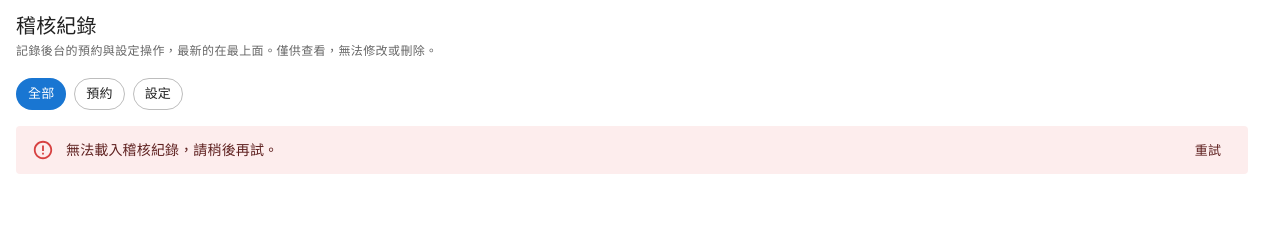
Test case: AuditLogView › 錯誤 › 首次載入失敗：顯示錯誤與重試、不顯示表格；重試成功後顯示資料
Expected: the text "無法載入稽核紀錄，請稍後再試。" is shown, [66, 142, 278, 158]
Click the button "重試": (1208, 151) [1176, 136, 1240, 167]
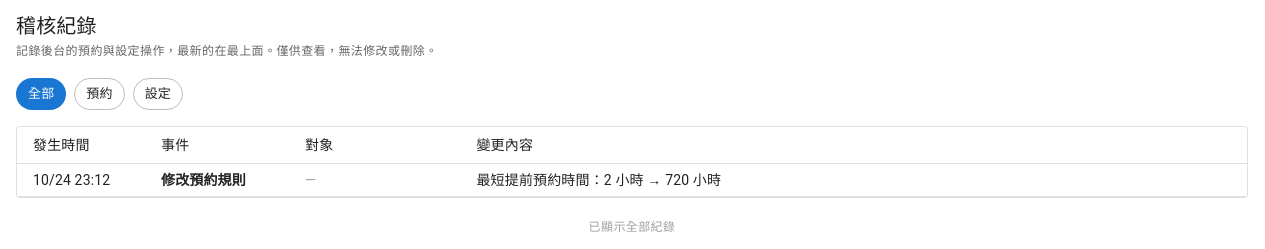
Expected: the table is shown, [17, 127, 1247, 197]
Expected: the text "無法載入稽核紀錄，請稍後再試。" is gone
